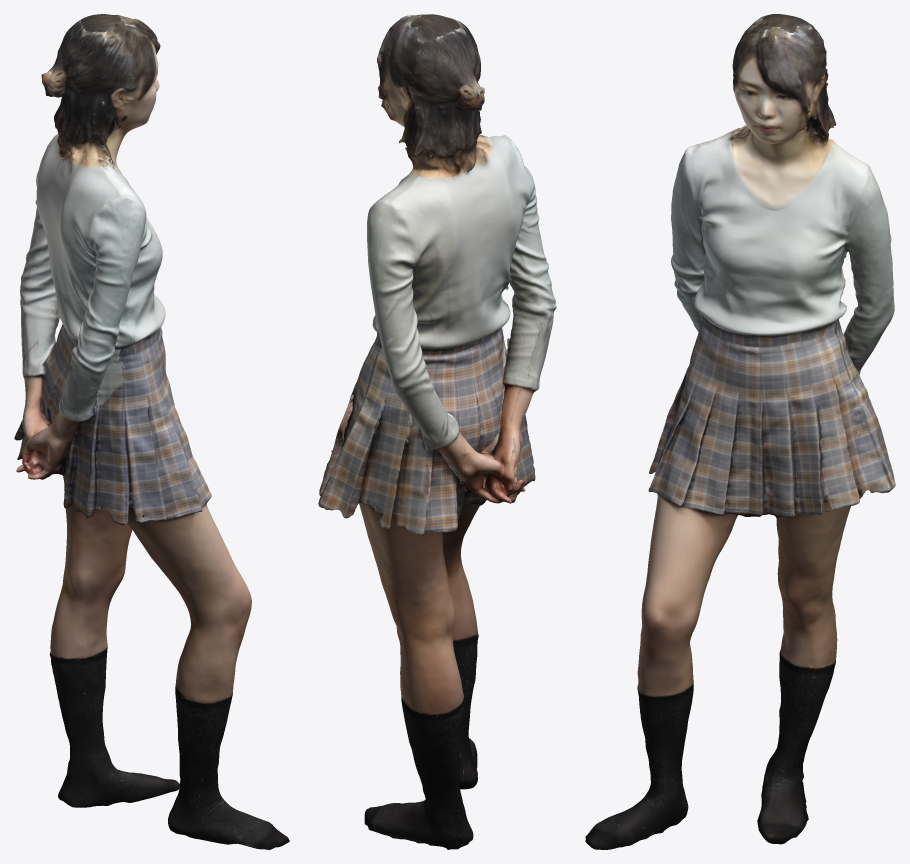
Rendered from AyaScan.glb.
The picture shows the model from 3 angles, left to right: view 1: azimuth 30°, elevation 25°; view 2: azimuth 150°, elevation 25°; view 3: azimuth 270°, elevation 25°; orthographic projection. The views are drawn at different scales.
Parts seen in each view (by area): view 1: Object_2, Object_4, Object_5, Object_3, Object_6, Object_8; view 2: Object_2, Object_3, Object_4, Object_5, Object_6, Object_8; view 3: Object_3, Object_2, Object_5, Object_4, Object_6, Object_7.
Boxes of the visible parts, <box> form: Object_2: <box>24,15,162,358</box>; Object_4: <box>17,390,250,806</box>; Object_5: <box>20,16,283,849</box>; Object_3: <box>14,217,188,517</box>; Object_6: <box>16,296,289,849</box>; Object_8: <box>81,14,121,32</box>; Object_2: <box>367,14,555,359</box>; Object_3: <box>319,261,556,555</box>; Object_4: <box>318,411,533,843</box>; Object_5: <box>345,14,555,849</box>; Object_6: <box>319,263,554,849</box>; Object_8: <box>398,15,459,125</box>; Object_3: <box>663,179,895,531</box>; Object_2: <box>671,15,893,343</box>; Object_5: <box>586,14,894,849</box>; Object_4: <box>643,399,894,803</box>; Object_6: <box>585,256,895,849</box>; Object_7: <box>688,258,798,423</box>.
Size of the model in its own units: 2.06 by 8.83 by 3.13.
Materials: 2 (2 with a texture image).
